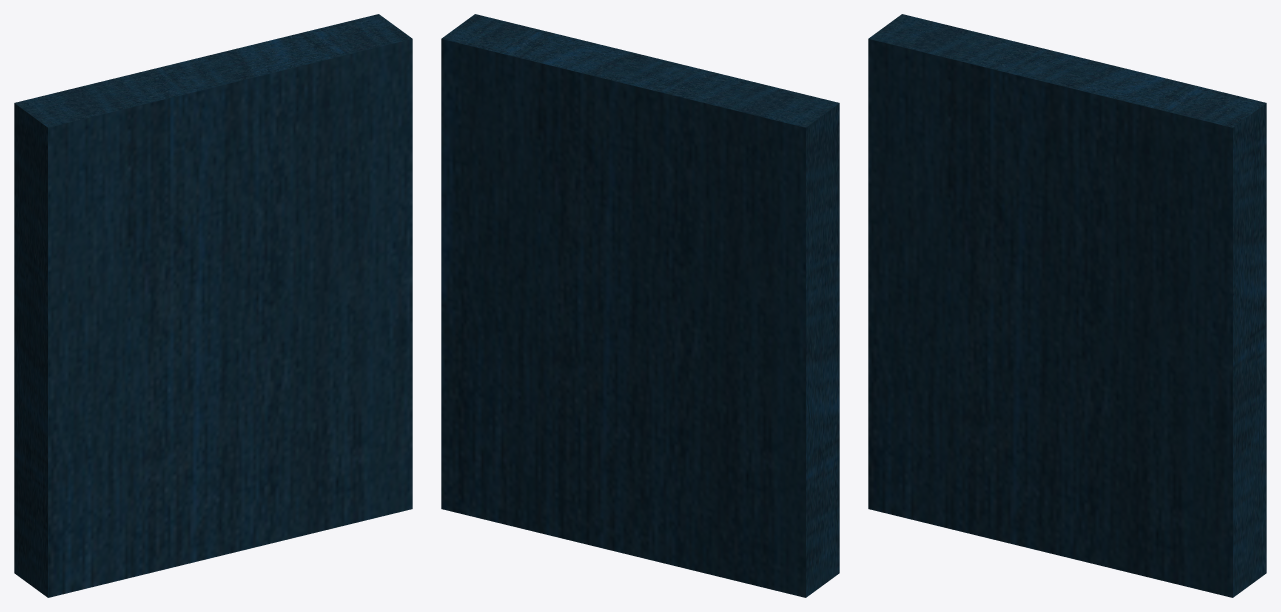
File: stallwall.gltf
3 renders of one model, left to right at view 1: azimuth 30°, elevation 25°; view 2: azimuth 150°, elevation 25°; view 3: azimuth 330°, elevation 25°, orthographic.
Parts seen in each view (by area): view 1: Cube; view 2: Cube; view 3: Cube.
Part boxes in pixels (x1,y1,x2,y2): Cube: (14,14,412,597); Cube: (441,14,839,597); Cube: (868,14,1266,597).
Bounding box in the file's own units: 3.98 × 4.9 × 0.641.
Materials: 1 (1 with a texture image).
